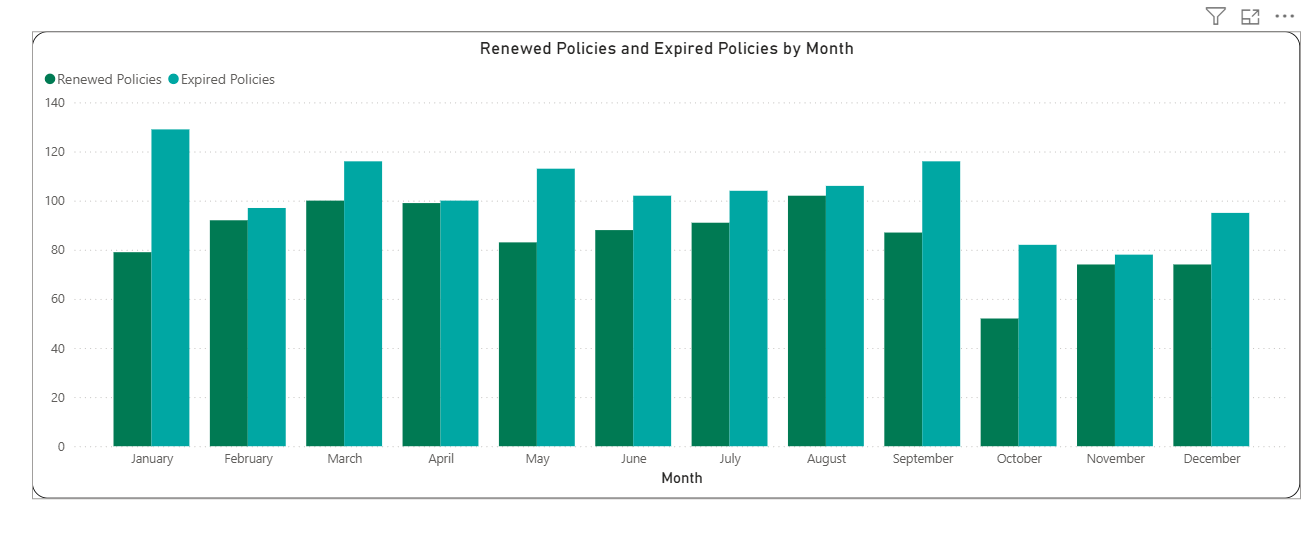

The dashboard page shown, as its layout file describes it:
{"tool":"powerbi","page":{"name":"Customer Retention","canvas":[1280,720],"ordinal":2},"visuals":[{"type":"clusteredColumnChart","fields":{"Y":["Measures (2).Renewed Policies","Measures (2).Expired Policies"],"Category":["Date.Date.Variation.Date Hierarchy.Month"]},"box":[48,112,1216,448],"z":0}]}

Visuals, with their boxes on the page's 1280x720 design canvas (x1, y1, x2, y2). These are canvas units, not pixel positions in the 1314x557 screenshot, which may show the page scaled, cropped or inside an application window:
clusteredColumnChart - Measures (2).Renewed Policies x Measures (2).Expired Policies: (x1=48, y1=112, x2=1264, y2=560)
